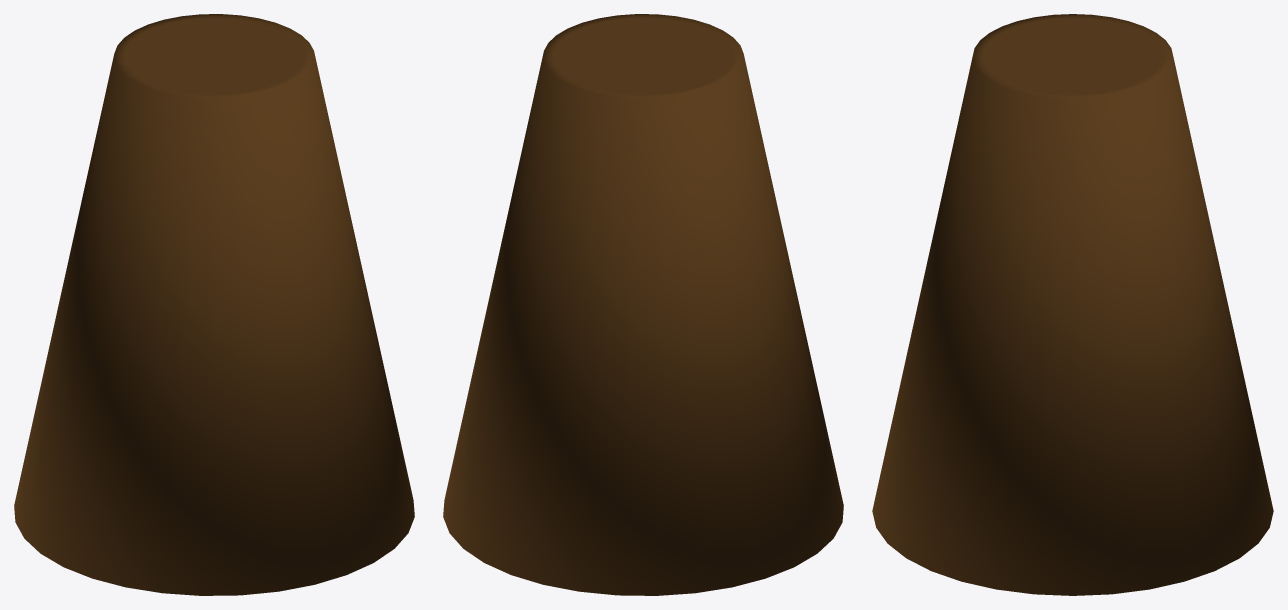
File: Piloncillo.fbx
3 views of the same model, side by side, from view 1: azimuth 30°, elevation 25°; view 2: azimuth 150°, elevation 25°; view 3: azimuth 270°, elevation 25° (orthographic).
Parts seen in each view (by area): view 1: Cone; view 2: Cone; view 3: Cone.
Part boxes in pixels (x1,y1,x2,y2): Cone: (14, 14, 414, 595); Cone: (443, 14, 843, 595); Cone: (872, 14, 1273, 595).
Size of the model in its own units: 160 by 200 by 160.
